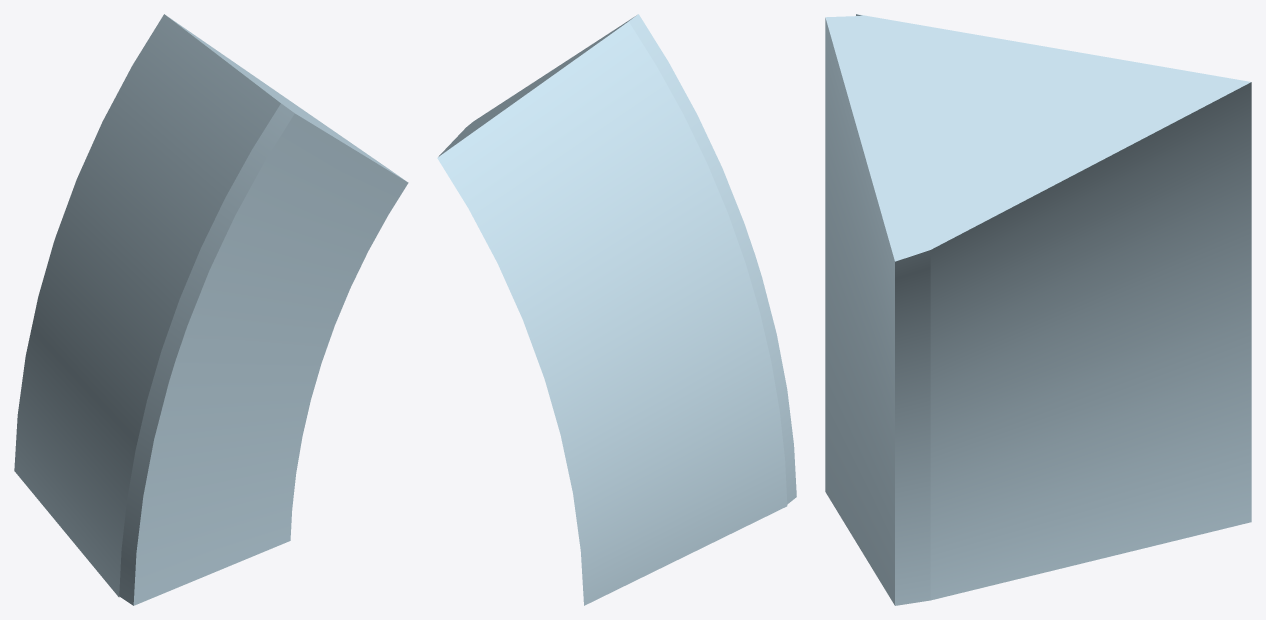
File: Sub_3_Cell_2_1.gltf
The picture shows the model from 3 angles, left to right: view 1: azimuth 30°, elevation 25°; view 2: azimuth 150°, elevation 25°; view 3: azimuth 270°, elevation 25°; orthographic projection. The views are drawn at different scales.
Parts seen in each view (by area): view 1: Sub_3_Cell_2_1; view 2: Sub_3_Cell_2_1; view 3: Sub_3_Cell_2_1.
Part boxes in pixels (bbox=[...]): Sub_3_Cell_2_1: bbox=[14, 14, 408, 605]; Sub_3_Cell_2_1: bbox=[437, 14, 796, 605]; Sub_3_Cell_2_1: bbox=[825, 14, 1251, 605].
Bounding box in the file's own units: 0.0622 × 0.0887 × 0.0594.
